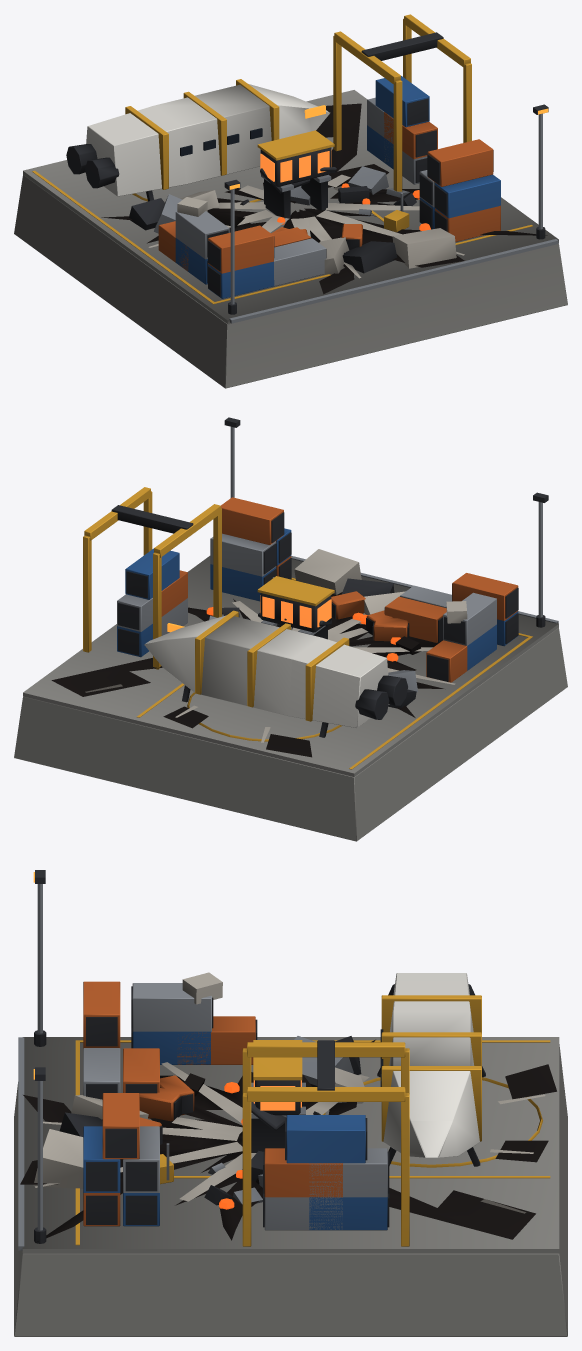
The model's file is freight-terminal-luna.glb.
3 renders of one model, top to bottom at view 1: azimuth 30°, elevation 25°; view 2: azimuth 150°, elevation 25°; view 3: azimuth 270°, elevation 25°, orthographic. The views are drawn at different scales.
Parts seen in each view (by area): view 1: site_freight_terminal_luna_body, site_freight_terminal_luna_ruin, site_freight_terminal_luna_core; view 2: site_freight_terminal_luna_body, site_freight_terminal_luna_ruin, site_freight_terminal_luna_core; view 3: site_freight_terminal_luna_body, site_freight_terminal_luna_ruin, site_freight_terminal_luna_core.
Part boxes in pixels (x1,y1,x2,y2): site_freight_terminal_luna_body: (14, 14, 567, 388); site_freight_terminal_luna_ruin: (101, 103, 547, 294); site_freight_terminal_luna_core: (257, 130, 334, 186); site_freight_terminal_luna_body: (14, 417, 567, 841); site_freight_terminal_luna_ruin: (51, 549, 467, 757); site_freight_terminal_luna_core: (257, 576, 334, 632); site_freight_terminal_luna_body: (14, 870, 567, 1336); site_freight_terminal_luna_ruin: (20, 972, 556, 1242); site_freight_terminal_luna_core: (253, 1040, 302, 1115).
Bounding box in the file's own units: 5.9 × 3.2 × 6.3.
